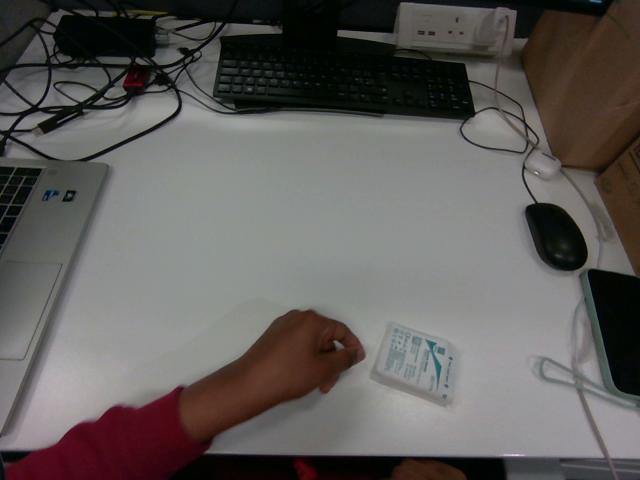gauze: (371, 322, 457, 405)
